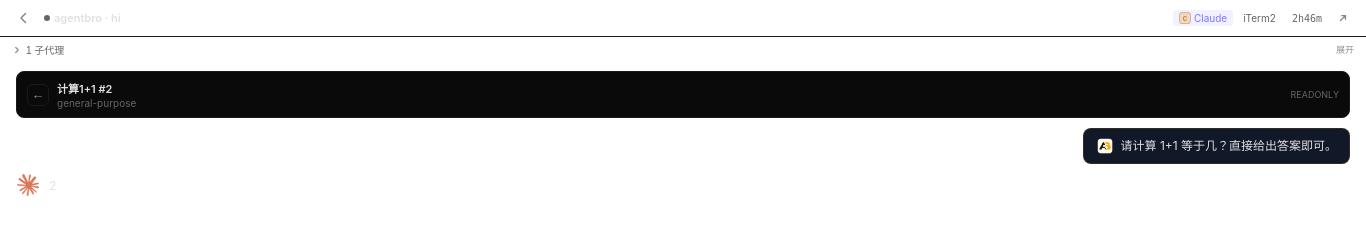
Scenario: ChatView subagent history › keeps subagent identity visible and hides the main-session composer in readonly history
This screenshot has width=1366, height=244.
expect the text "计算1+1 #2" is shown: met, box [57,82,112,96]
expect the text "general-purpose" is shown: met, box [57,97,136,109]
Click the button with aria-label "Expand subagents".
click(17, 50)  # box [12,37,1354,62]
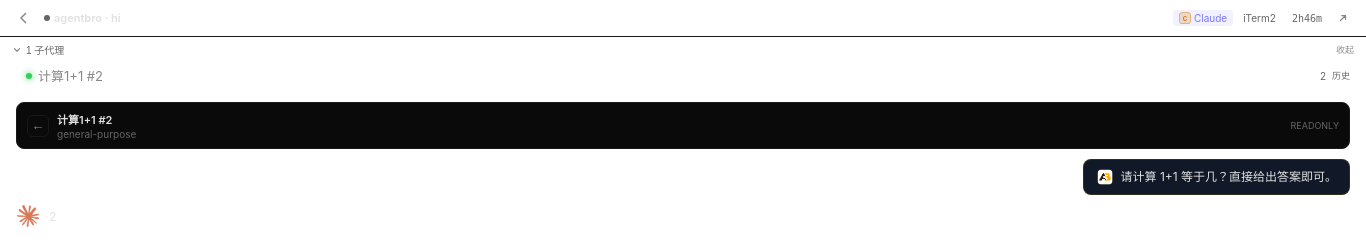
expect the text "收起" is shown: met, box [1336,43,1354,56]
expect the 1st text "计算1+1 #2" is shown: met, box [38,66,103,85]
expect the 1st text "2" is shown: met, box [1320,70,1326,82]
